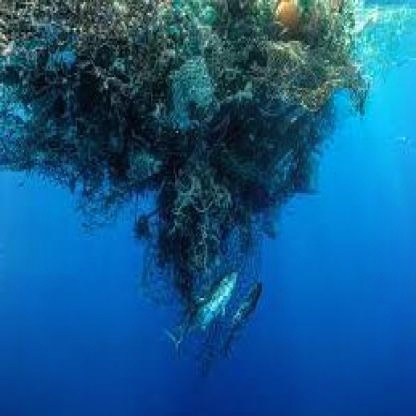net: (1, 2, 354, 270)
